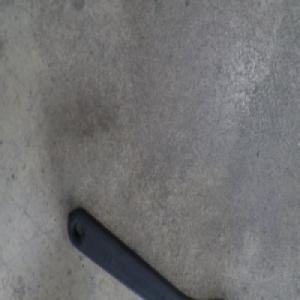AdjustableWrench: (65, 204, 205, 299)
